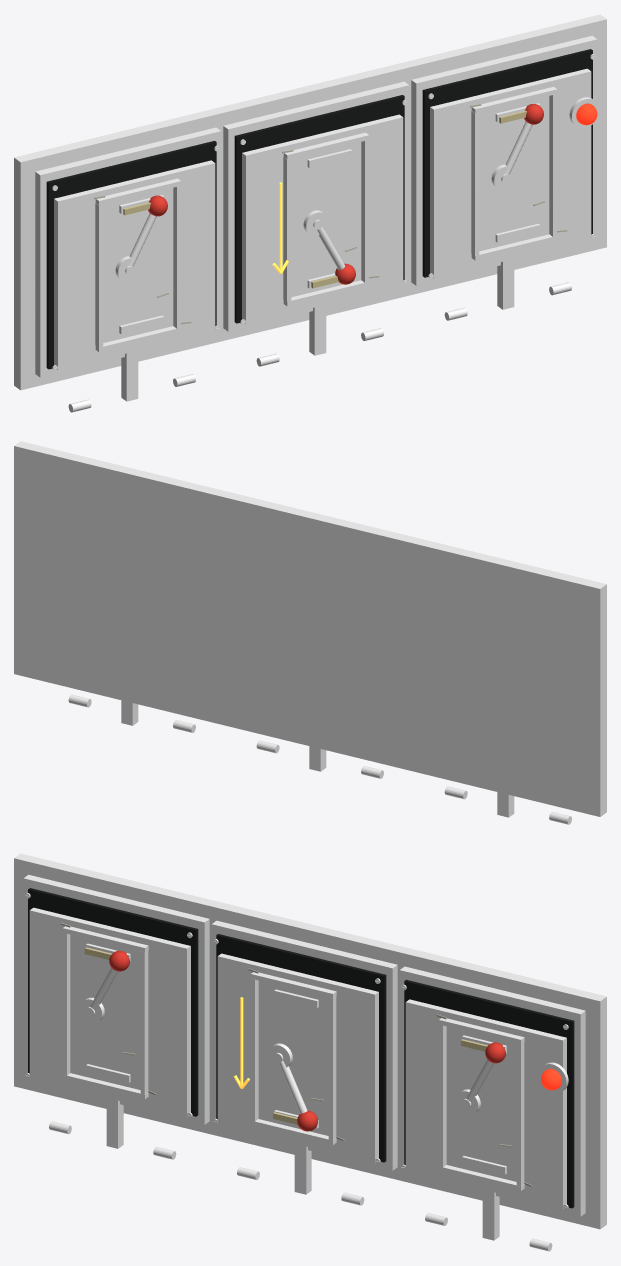
Rendered from engine_room_overclock_control.glb.
The picture shows the model from 3 angles, top to bottom: view 1: azimuth 30°, elevation 25°; view 2: azimuth 150°, elevation 25°; view 3: azimuth 330°, elevation 25°; orthographic projection.
Parts seen in each view (by area): view 1: state 03 lever returned up overclock active beacon blinking  (×9), state 01 idle lever up beacon off raised lever face plate, state 02 user pulls lever down raised lever face plate, state 01 idle lever up beacon off wall placement proxy, state 02 user pulls lever down armored overclock control bac, state 01 idle lever up beacon off armored overclock control , state 02 user pulls lever down dark recessed service gasket, state 01 idle lever up beacon off dark recessed service gask, state 02 user pulls lever down wall placement proxy, state 01 idle lever up beacon off protective left rail, state 02 user pulls lever down protective right rail, state 02 user pulls lever down protective left rail (+7 smaller); view 2: state 01 idle lever up beacon off wall placement proxy, state 02 user pulls lever down wall placement proxy, state 03 lever returned up overclock active beacon blinking ; view 3: state 03 lever returned up overclock active beacon blinking  (×9), state 01 idle lever up beacon off raised lever face plate, state 02 user pulls lever down raised lever face plate, state 01 idle lever up beacon off wall placement proxy, state 02 user pulls lever down armored overclock control bac, state 01 idle lever up beacon off armored overclock control , state 02 user pulls lever down wall placement proxy, state 01 idle lever up beacon off dark recessed service gask, state 02 user pulls lever down dark recessed service gasket, state 02 user pulls lever down protective right rail, state 01 idle lever up beacon off protective right rail, state 02 user pulls lever down protective left rail (+7 smaller).
Part boxes in pixels (x1,y1,x2,y2): state 03 lever returned up overclock active beacon blinking  (×9): [390, 14, 606, 309]; state 01 idle lever up beacon off raised lever face plate: [54, 160, 215, 369]; state 02 user pulls lever down raised lever face plate: [242, 114, 403, 324]; state 01 idle lever up beacon off wall placement proxy: [14, 106, 230, 390]; state 02 user pulls lever down armored overclock control bac: [223, 81, 409, 331]; state 01 idle lever up beacon off armored overclock control : [35, 127, 221, 377]; state 02 user pulls lever down dark recessed service gasket: [234, 95, 404, 323]; state 01 idle lever up beacon off dark recessed service gask: [46, 140, 216, 369]; state 02 user pulls lever down wall placement proxy: [204, 64, 418, 338]; state 01 idle lever up beacon off protective left rail: [95, 203, 103, 347]; state 02 user pulls lever down protective right rail: [361, 139, 369, 282]; state 02 user pulls lever down protective left rail: [283, 157, 291, 301]; state 01 idle lever up beacon off wall placement proxy: [390, 533, 606, 816]; state 02 user pulls lever down wall placement proxy: [202, 487, 412, 770]; state 03 lever returned up overclock active beacon blinking : [14, 441, 224, 723]; state 03 lever returned up overclock active beacon blinking  (×9): [390, 946, 606, 1240]; state 01 idle lever up beacon off raised lever face plate: [29, 907, 190, 1117]; state 02 user pulls lever down raised lever face plate: [217, 953, 378, 1163]; state 01 idle lever up beacon off wall placement proxy: [14, 853, 230, 1137]; state 02 user pulls lever down armored overclock control bac: [211, 920, 397, 1170]; state 01 idle lever up beacon off armored overclock control : [23, 874, 209, 1124]; state 02 user pulls lever down wall placement proxy: [202, 903, 418, 1177]; state 01 idle lever up beacon off dark recessed service gask: [28, 888, 198, 1116]; state 02 user pulls lever down dark recessed service gasket: [216, 934, 386, 1162]; state 02 user pulls lever down protective right rail: [328, 996, 336, 1140]; state 01 idle lever up beacon off protective right rail: [140, 951, 148, 1094]; state 02 user pulls lever down protective left rail: [250, 978, 258, 1121].
Size of the model in its own units: 7.64 by 3.22 by 0.62.
